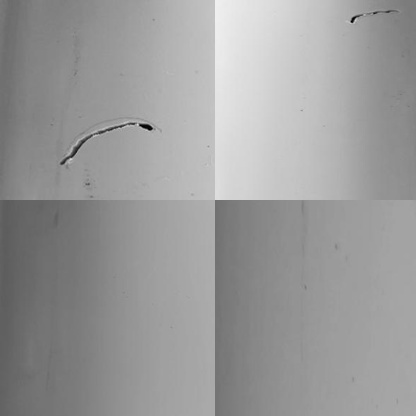fengxi: (56, 119, 161, 168), (345, 7, 399, 23)
